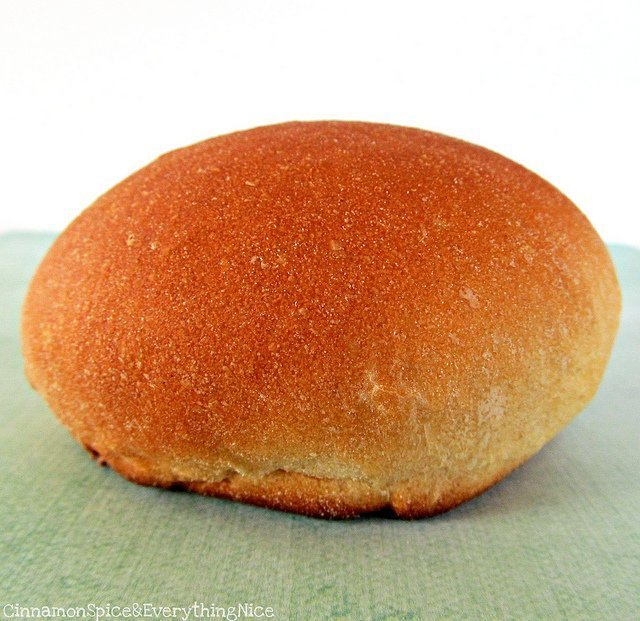hamburger_buns: (14, 124, 606, 523)
